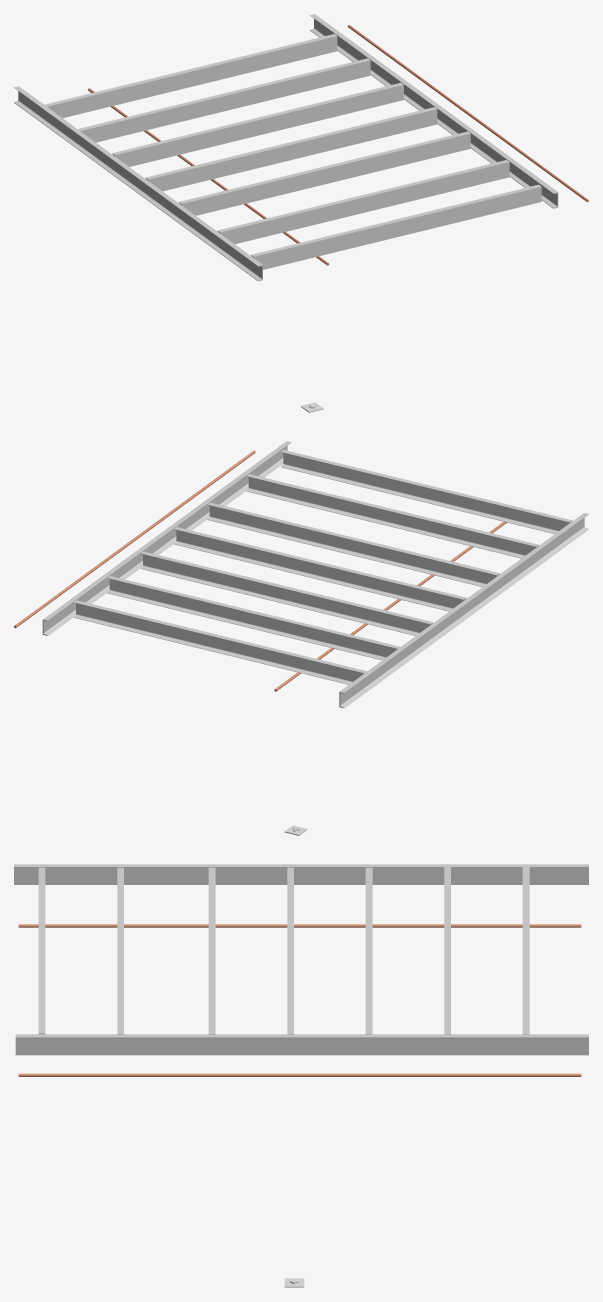
File: MEP_Level1.glb
3 renders of one model, top to bottom at view 1: azimuth 30°, elevation 25°; view 2: azimuth 150°, elevation 25°; view 3: azimuth 270°, elevation 25°, orthographic. The views are drawn at different scales.
Visible parts, largest first — view 1: Mat_128891, Mat_164754; view 2: Mat_128891, Mat_164754; view 3: Mat_128891, Mat_164754.
Part boxes in pixels (x1,y1,x2,y2): Mat_128891: [14, 14, 558, 281]; Mat_164754: [88, 25, 588, 265]; Mat_128891: [42, 441, 588, 708]; Mat_164754: [14, 450, 506, 691]; Mat_128891: [14, 864, 588, 1055]; Mat_164754: [18, 924, 581, 1076].
Bounding box in the file's own units: 3.46 × 2.7 × 4.4.
